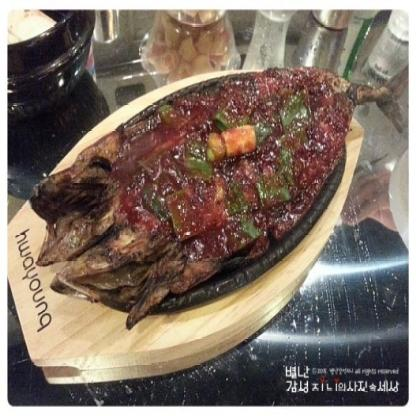Peixe: (29, 70, 387, 322)
